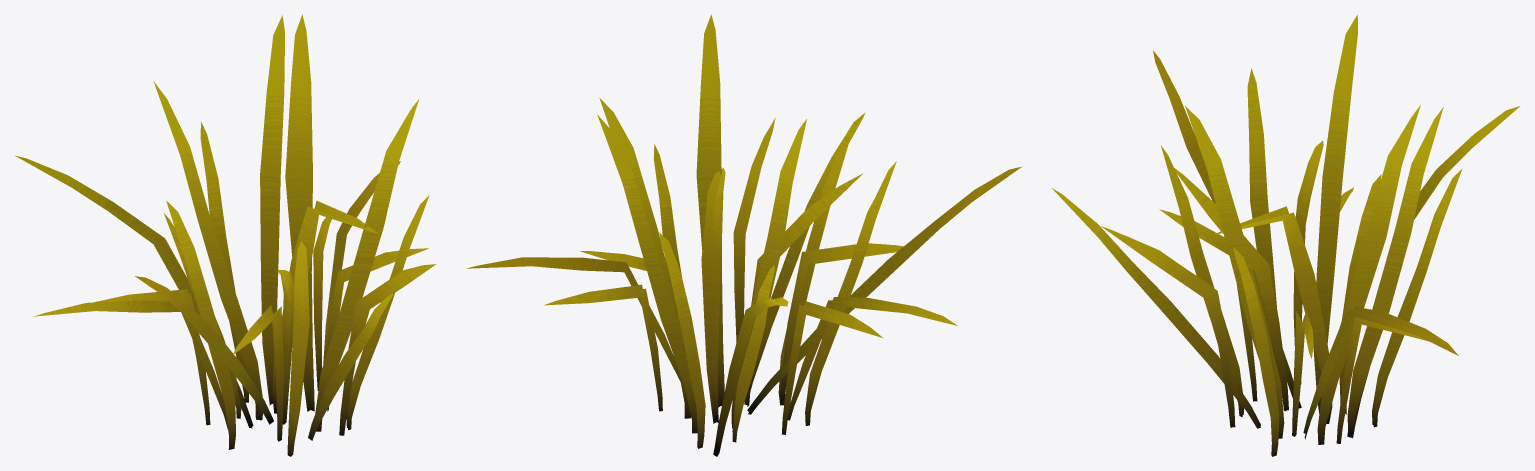
Rendered from Grass_Wispy_Short.glb.
3 renders of one model, left to right at view 1: azimuth 30°, elevation 25°; view 2: azimuth 150°, elevation 25°; view 3: azimuth 270°, elevation 25°, orthographic. The views are drawn at different scales.
Parts seen in each view (by area): view 1: Grass_Wispy_Short; view 2: Grass_Wispy_Short; view 3: Grass_Wispy_Short.
Boxes of the visible parts, x1,y1,x2,y2 form: Grass_Wispy_Short: (15,14,436,456); Grass_Wispy_Short: (466,14,1021,456); Grass_Wispy_Short: (1052,14,1519,456).
Bounding box in the file's own units: 1.32 × 1.07 × 1.21.
Materials: 1 (1 with a texture image).
